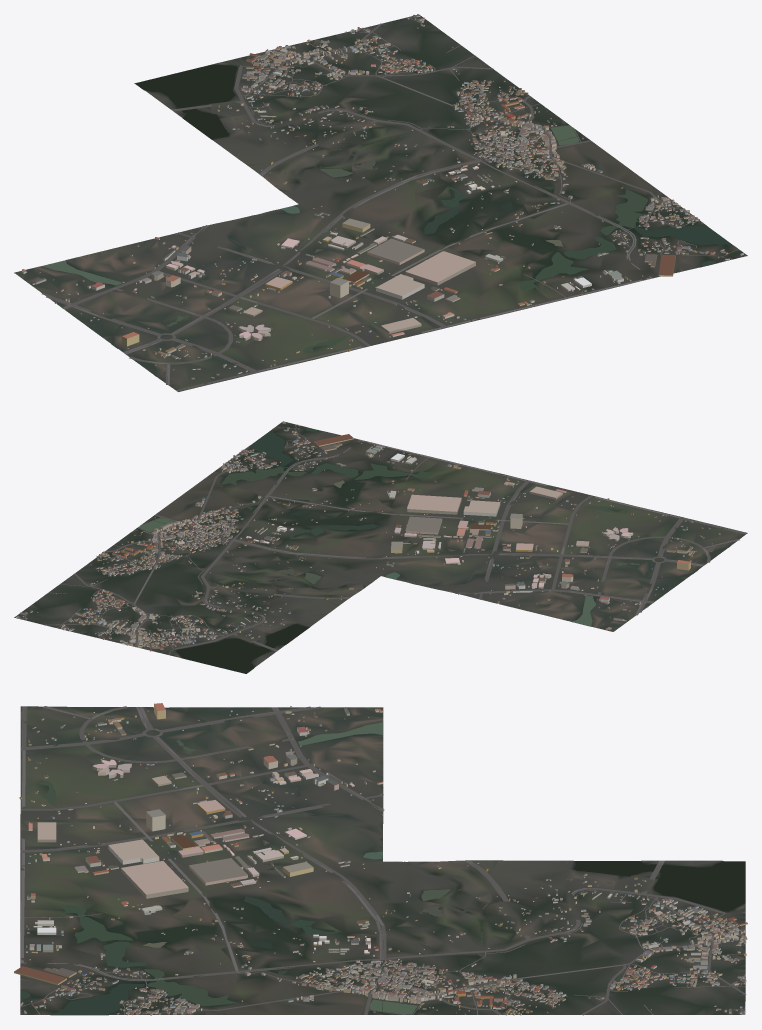
The picture shows the model from 3 angles, top to bottom: view 1: azimuth 30°, elevation 25°; view 2: azimuth 150°, elevation 25°; view 3: azimuth 270°, elevation 25°; orthographic projection. The views are drawn at different scales.
Visible parts, largest first — view 1: ground, buildings, roads, water; view 2: ground, buildings, roads, water; view 3: ground, buildings, roads, water.
Boxes of the visible parts, box(x1,y1,x2,y2) form: ground: box(14, 14, 747, 391); buildings: box(21, 14, 743, 379); roads: box(41, 17, 738, 391); water: box(41, 64, 732, 371); ground: box(14, 421, 747, 673); buildings: box(15, 422, 720, 651); roads: box(19, 424, 746, 654); water: box(114, 427, 720, 673); ground: box(20, 706, 745, 1015); buildings: box(14, 703, 747, 1015); roads: box(20, 706, 746, 1015); water: box(20, 709, 745, 1014).
Bounding box in the file's own units: 2815 × 67.89 × 2837.
